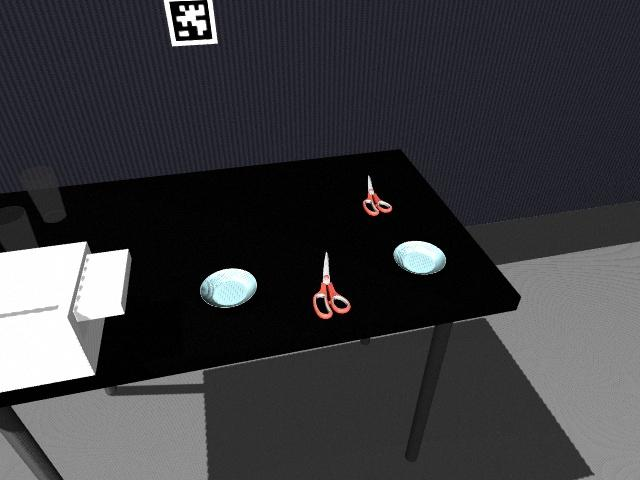cup: (23, 169, 67, 223), (0, 207, 37, 251)
plate: (199, 268, 258, 309), (392, 240, 448, 276)
scissors: (311, 249, 353, 319), (363, 174, 393, 218)
